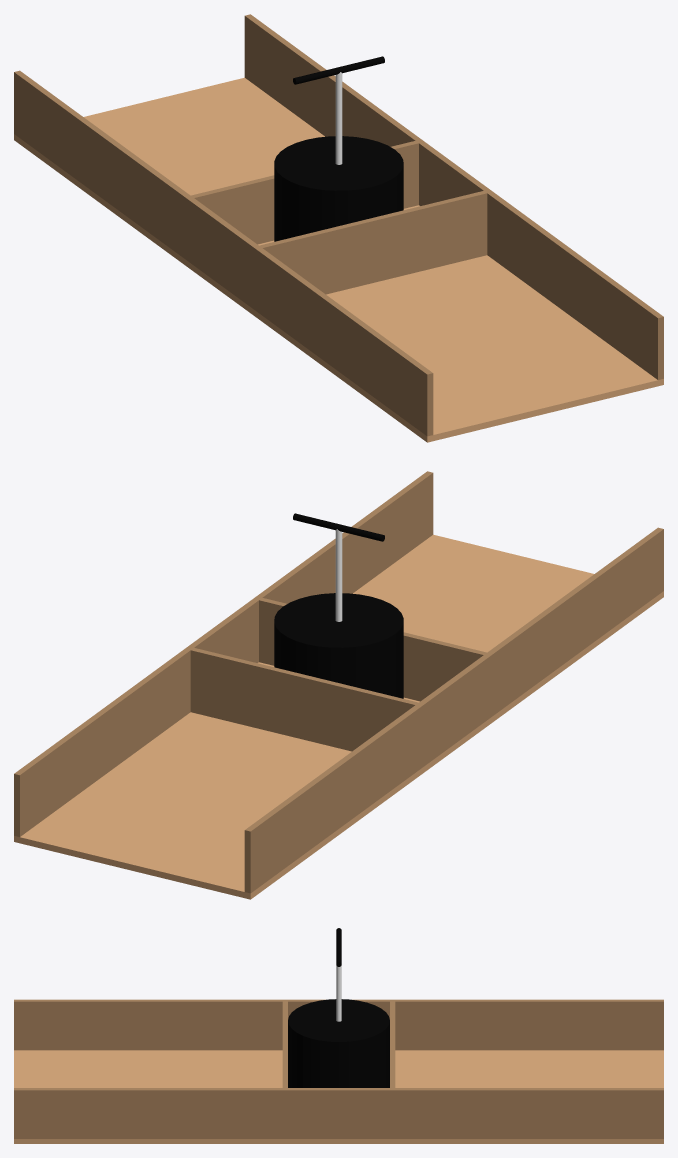
3 renders of one model, top to bottom at view 1: azimuth 30°, elevation 25°; view 2: azimuth 150°, elevation 25°; view 3: azimuth 270°, elevation 25°, orthographic. The views are drawn at different scales.
Visible parts, largest first — view 1: Cube.006, Cube, Cube.001, Cube.002, Cylinder, Cube.003, Cylinder.002, Cylinder.001; view 2: Cube.006, Cube, Cube.001, Cube.003, Cylinder, Cube.002, Cylinder.002, Cylinder.001; view 3: Cube.001, Cube, Cube.006, Cylinder, Cube.003, Cube.002, Cylinder.002.
Part boxes in pixels (x1,y1,x2,y2): Cube.006: [14, 77, 663, 442]; Cube: [14, 70, 433, 436]; Cube.001: [244, 14, 663, 379]; Cube.002: [259, 191, 487, 294]; Cylinder: [274, 136, 403, 241]; Cube.003: [191, 141, 418, 244]; Cylinder.002: [335, 72, 342, 164]; Cylinder.001: [293, 56, 384, 84]; Cube.006: [14, 534, 663, 899]; Cube: [244, 527, 663, 893]; Cube.001: [14, 471, 433, 836]; Cube.003: [190, 648, 418, 751]; Cylinder: [274, 593, 403, 698]; Cube.002: [259, 598, 486, 701]; Cylinder.002: [335, 529, 342, 621]; Cylinder.001: [293, 513, 384, 541]; Cube.001: [14, 1088, 663, 1138]; Cube: [14, 999, 663, 1050]; Cube.006: [14, 1050, 663, 1143]; Cylinder: [288, 999, 389, 1087]; Cube.003: [390, 1001, 395, 1087]; Cube.002: [282, 1001, 287, 1087]; Cylinder.002: [336, 965, 341, 1021].
Size of the model in its own units: 0.8 by 2.42 by 0.63.
